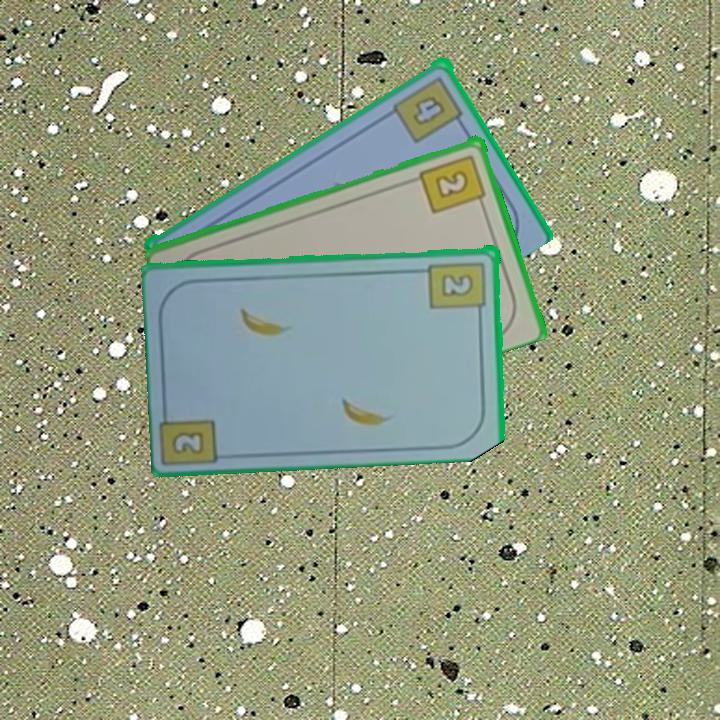2b: (416, 150, 489, 216), (426, 258, 489, 319), (172, 430, 204, 454)
4b: (390, 72, 467, 146)
